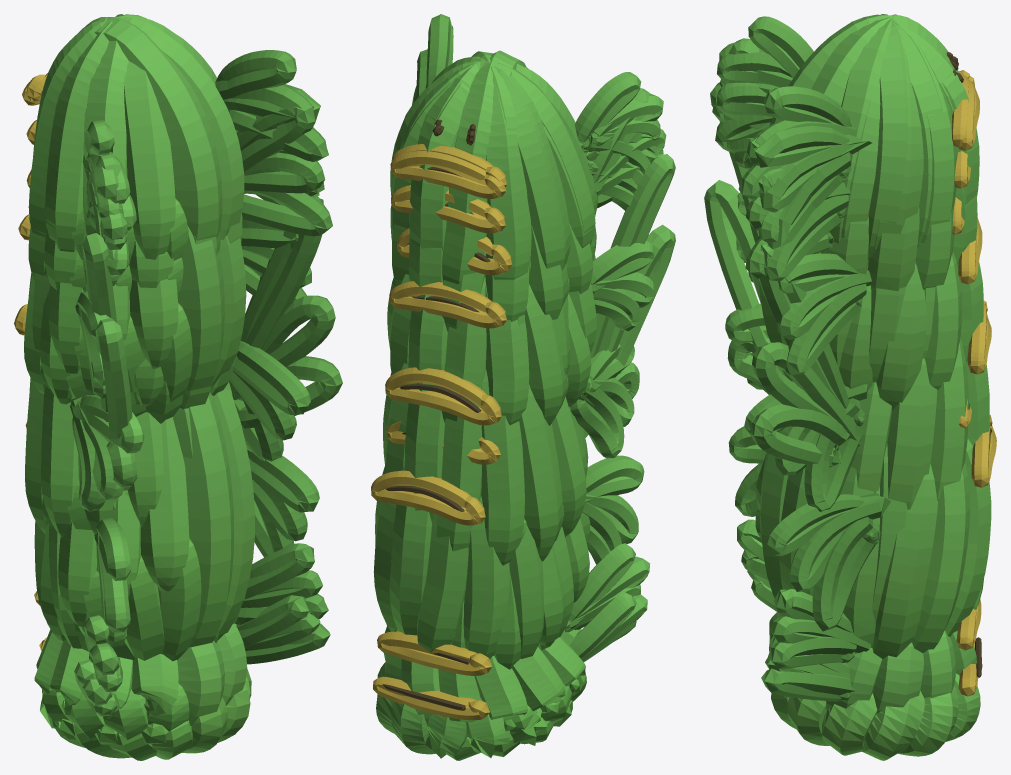
Rendered from Cherb.fbx.
3 views of the same model, side by side, from view 1: azimuth 30°, elevation 25°; view 2: azimuth 150°, elevation 25°; view 3: azimuth 270°, elevation 25° (orthographic). The views are drawn at different scales.
Visible parts, largest first — view 1: NewLayer0; view 2: NewLayer0; view 3: NewLayer0.
Boxes of the visible parts, x1,y1,x2,y2 form: NewLayer0: [14, 14, 342, 760]; NewLayer0: [371, 14, 675, 760]; NewLayer0: [704, 14, 996, 760].
Bounding box in the file's own units: 3.31 × 8.51 × 3.16.
